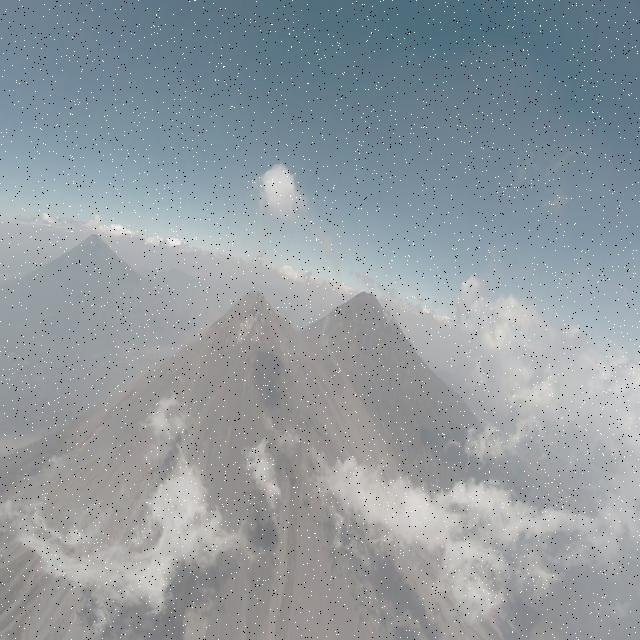Summit: (210, 284, 296, 354)
